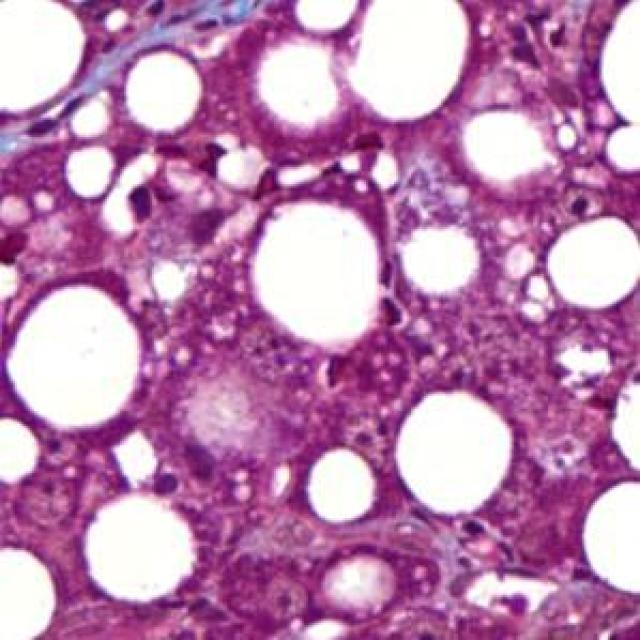steatosis: (244, 208, 394, 342), (15, 289, 154, 424), (396, 394, 531, 516)
